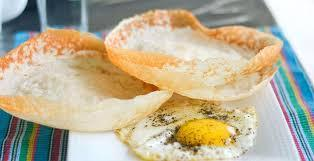Hoppers: (102, 2, 296, 105)
